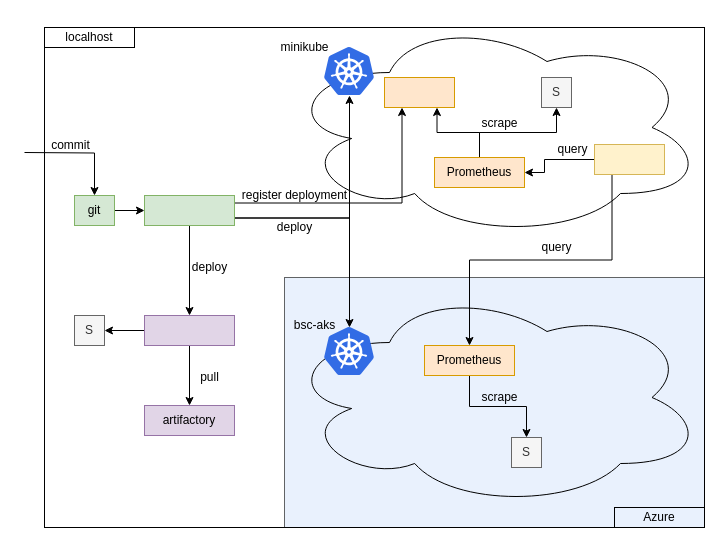
This 722x545 diagram has some shape labels left out. Each missing label, with the centre of its shape:
"deployer" belongs at point (189, 210).
"Grafana" belongs at point (629, 159).
"legacyctld" belongs at point (189, 330).
"PushGw" belongs at point (419, 92).
